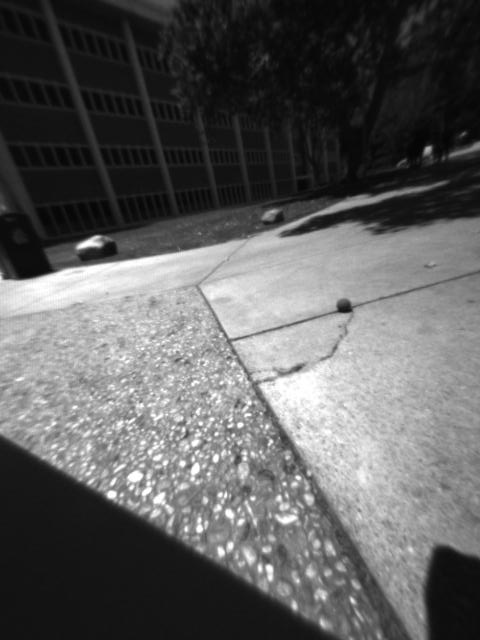dogtoy: (332, 293, 359, 319)
